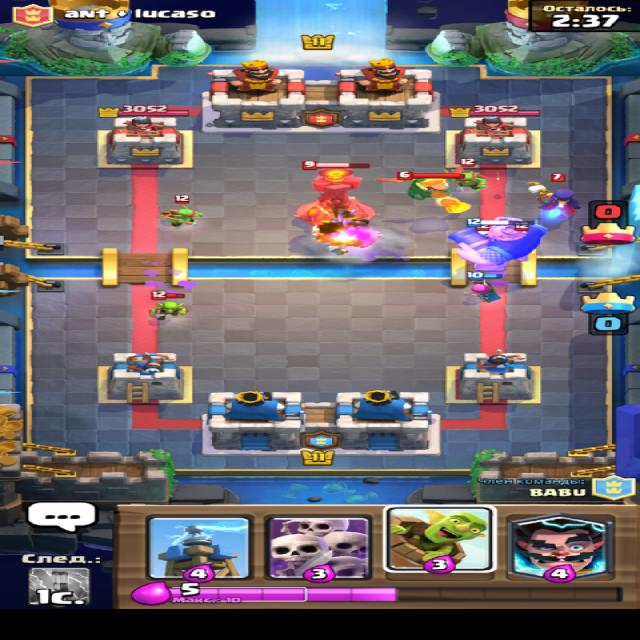Enemy-BabyDragon: (373, 166, 464, 201)
Enemy-Goblin: (147, 290, 189, 320)
Enemy-InfernoTower: (291, 160, 377, 227)
Enemy-SpearGoblin: (156, 194, 204, 227), (440, 158, 487, 191)
Enemy-Witch: (524, 172, 580, 218)
Player-Archer: (460, 271, 503, 303)
Player-RoyalGiant: (445, 216, 548, 272)
